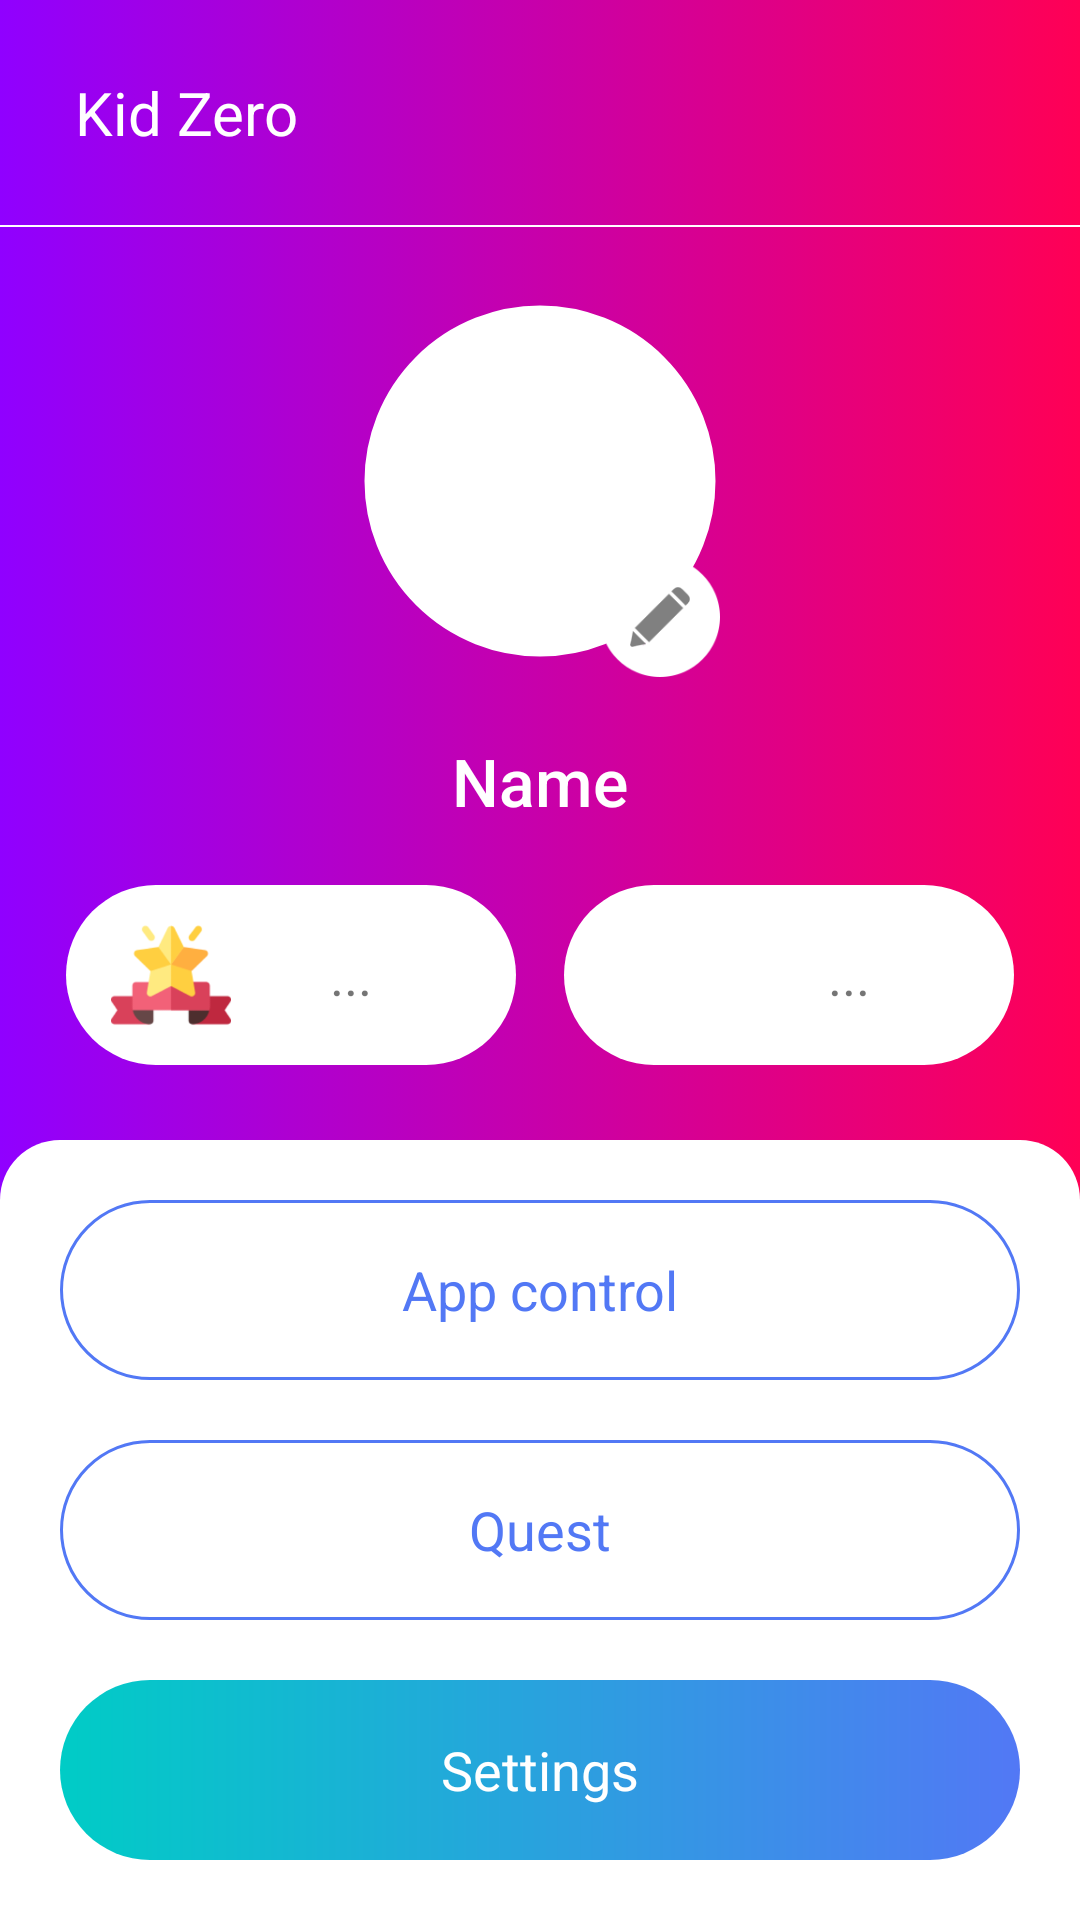

Named icons in this screenshot (1080*1920) and their centers, (x=x, y=y):
change: (x=660, y=617)
star: (x=171, y=975)
